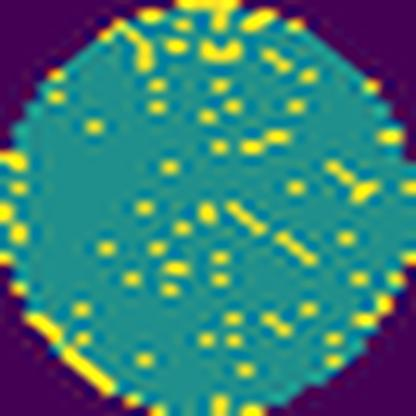Edge-Loc: (170, 0, 247, 34), (67, 352, 119, 394), (23, 312, 69, 344)
